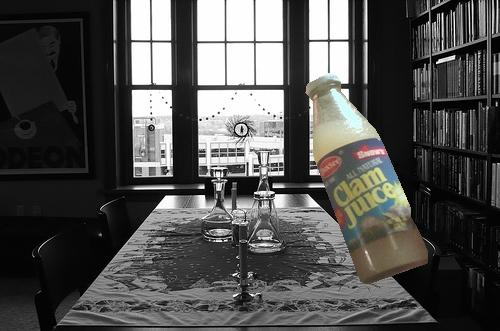tampered: (306, 74, 428, 284)
